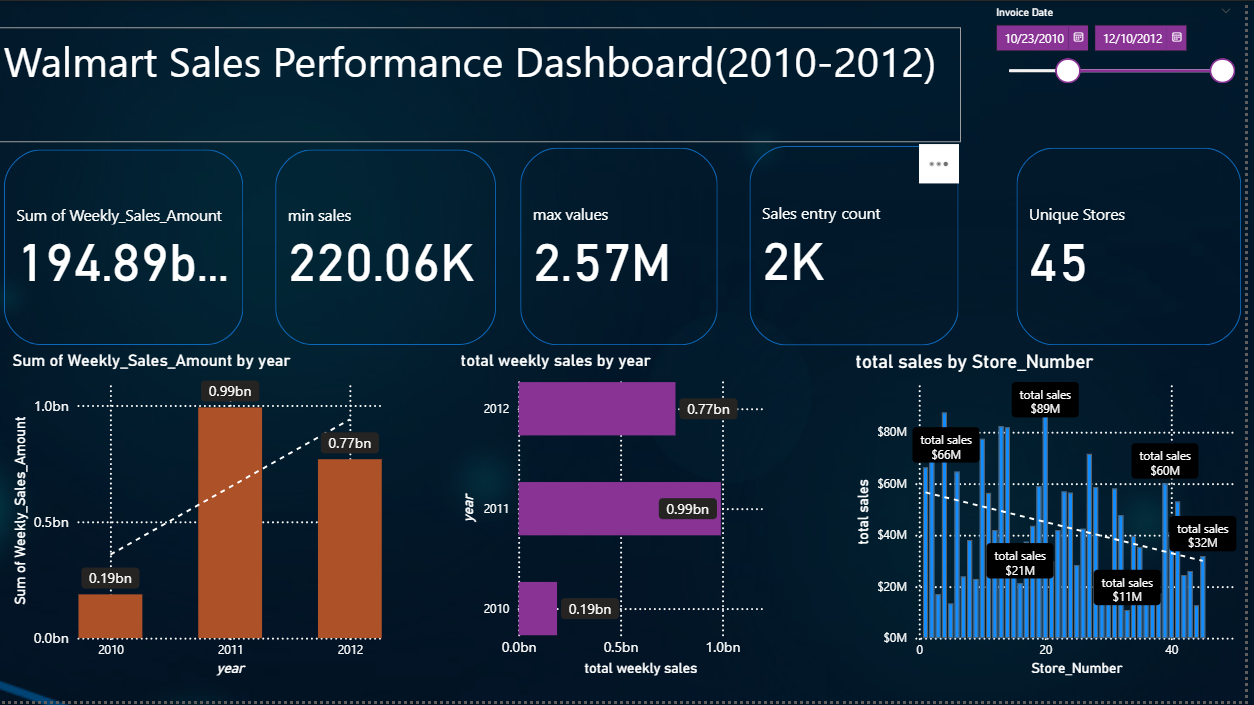

The dashboard page shown, as its layout file describes it:
{"tool":"powerbi","page":{"name":"Page 1","canvas":[1280,720],"ordinal":0},"visuals":[{"type":"clusteredColumnChart","fields":{"Category":["Walmart_sales_analysis.year"],"Y":["Sum(Walmart_sales_analysis.Weekly_Sales_Amount)"]},"box":[8.5,359.9,389.5,338.7],"z":0},{"type":"cardVisual","fields":{"Data":["Sum(Walmart_sales_analysis.Weekly_Sales_Amount)"]},"box":[0,148.2,256.1,211.7],"z":1000},{"type":"clusteredBarChart","fields":{"Y":["Walmart_sales_analysis.total weekly sales"],"Category":["Walmart_sales_analysis.year"]},"box":[469.9,359.9,338.7,338.7],"z":2000},{"type":"clusteredColumnChart","fields":{"Category":["Walmart_sales_analysis.Store_Number"],"Y":["Walmart_sales_analysis.total sales"]},"box":[874.2,359.9,406.4,338.7],"z":3000},{"type":"cardVisual","fields":{"Data":["Walmart_sales_analysis.min sales"]},"box":[279.4,148.2,237.1,211.7],"z":4000},{"type":"cardVisual","fields":{"Data":["Walmart_sales_analysis.max values"]},"box":[531.3,146.1,213.8,213.8],"z":5000},{"type":"cardVisual","fields":{"Data":["Walmart_sales_analysis.Sales entry count"]},"box":[766.6,144.8,224.3,215.8],"z":6000},{"type":"cardVisual","fields":{"Data":["Walmart_sales_analysis.Unique Stores"]},"box":[1039.3,146.1,241.3,213.8],"z":7000},{"type":"textbox","box":[0,27.5,988.5,118.5],"z":8000},{"type":"slicer","fields":{"Values":["Walmart_sales_analysis.Invoice Date"]},"box":[1011.8,0,266.7,146.1],"z":9000}]}

Visuals, with their boxes in screenshot pixels (x1, y1, x2, y2), scaled from the page's 1280x720 canvas onto the 1254x705 screenshot:
clusteredColumnChart - Walmart_sales_analysis.year x Sum(Walmart_sales_analysis.Weekly_Sales_Amount): {"left": 8, "top": 352, "right": 390, "bottom": 684}
cardVisual - Sum(Walmart_sales_analysis.Weekly_Sales_Amount): {"left": 0, "top": 145, "right": 251, "bottom": 352}
clusteredBarChart - Walmart_sales_analysis.total weekly sales x Walmart_sales_analysis.year: {"left": 460, "top": 352, "right": 792, "bottom": 684}
clusteredColumnChart - Walmart_sales_analysis.Store_Number x Walmart_sales_analysis.total sales: {"left": 856, "top": 352, "right": 1253, "bottom": 684}
cardVisual - Walmart_sales_analysis.min sales: {"left": 274, "top": 145, "right": 506, "bottom": 352}
cardVisual - Walmart_sales_analysis.max values: {"left": 521, "top": 143, "right": 730, "bottom": 352}
cardVisual - Walmart_sales_analysis.Sales entry count: {"left": 751, "top": 142, "right": 971, "bottom": 353}
cardVisual - Walmart_sales_analysis.Unique Stores: {"left": 1018, "top": 143, "right": 1253, "bottom": 352}
textbox: {"left": 0, "top": 27, "right": 968, "bottom": 143}
slicer - Walmart_sales_analysis.Invoice Date: {"left": 991, "top": 0, "right": 1253, "bottom": 143}
